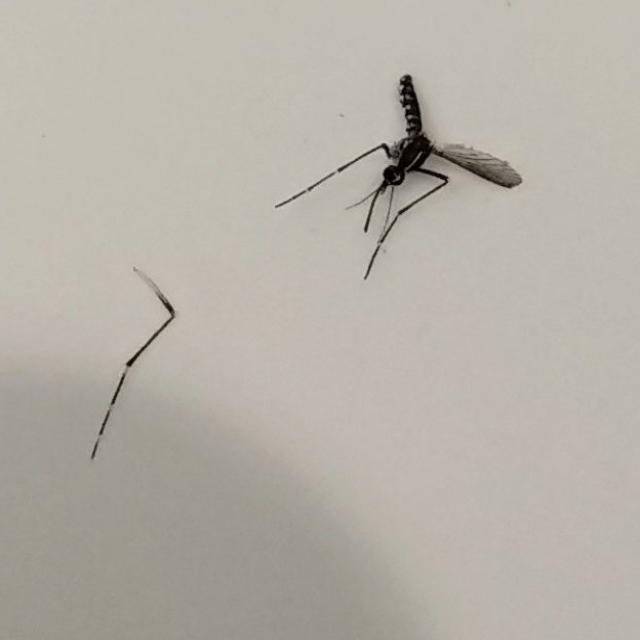albopictus: (275, 64, 518, 288)
